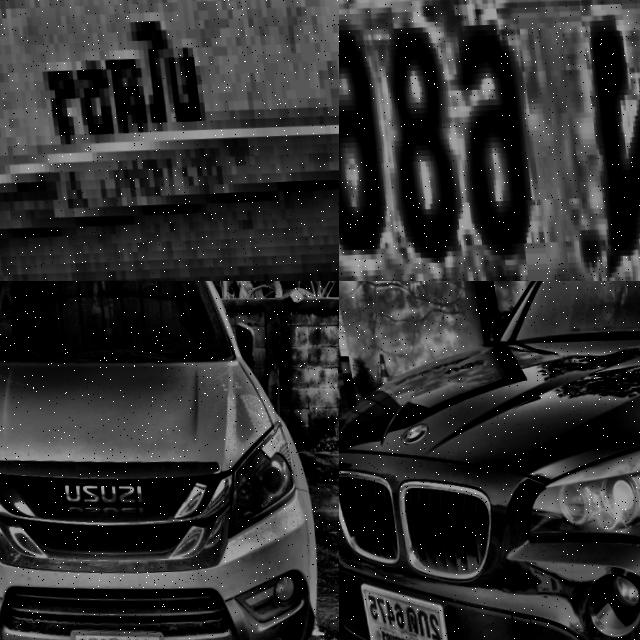license-plate: (0, 0, 339, 281), (339, 0, 640, 281), (351, 573, 448, 640), (58, 623, 164, 640)
